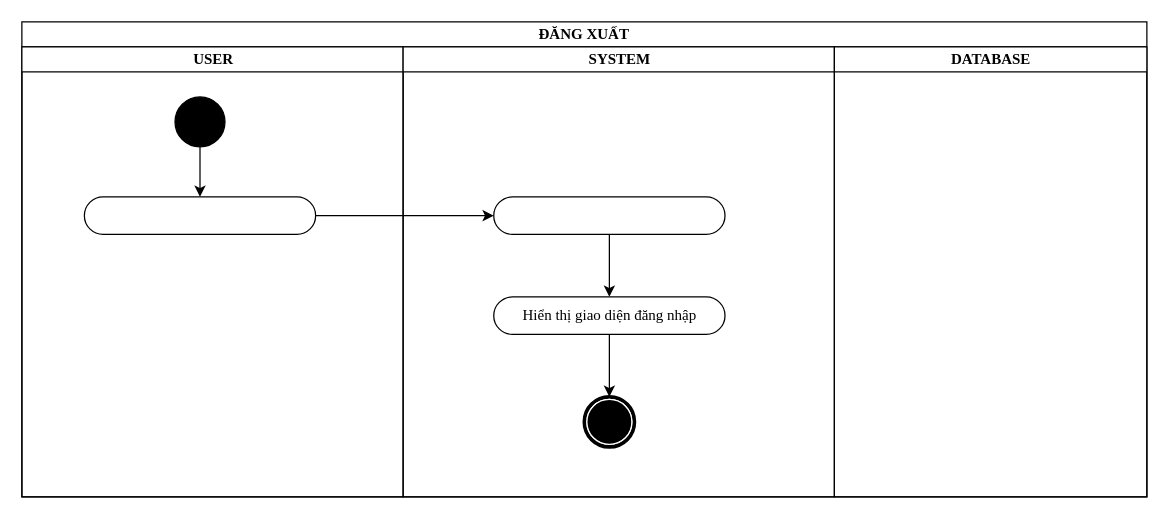
Some shapes in this 1169 by 519 pixel diagram are drawn without their labels. The centre of each missing label's shape, as x and y in pixels:
"Nhấn nút đăng xuất" goes at point (199, 215).
"Thoát khỏi phiên làm việc của người dùng" goes at point (608, 215).
